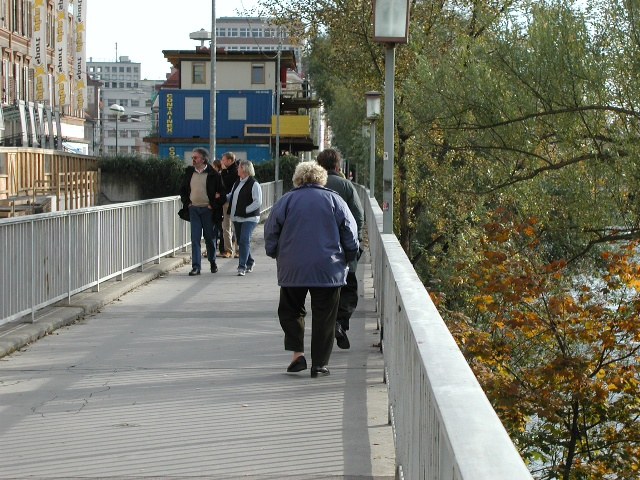person: (263, 158, 359, 378), (172, 144, 227, 274), (233, 159, 263, 273)
